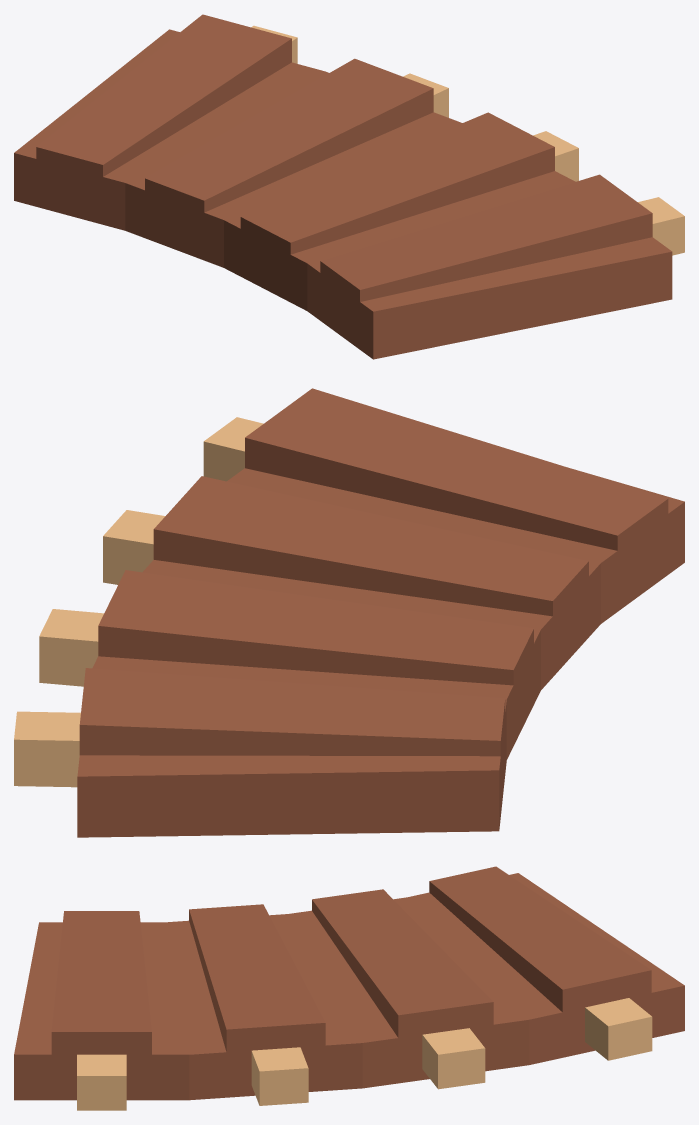
Rendered from meatRibs.dae.
3 views of the same model, one above another, from view 1: azimuth 30°, elevation 25°; view 2: azimuth 150°, elevation 25°; view 3: azimuth 270°, elevation 25° (orthographic). The views are drawn at different scales.
Parts seen in each view (by area): view 1: meatRibs; view 2: meatRibs; view 3: meatRibs.
Boxes of the visible parts, <box> form: meatRibs: <box>14,14,684,359</box>; meatRibs: <box>14,388,684,837</box>; meatRibs: <box>14,866,684,1110</box>.
Bounding box in the file's own units: 0.3834 × 0.06 × 0.5354.
